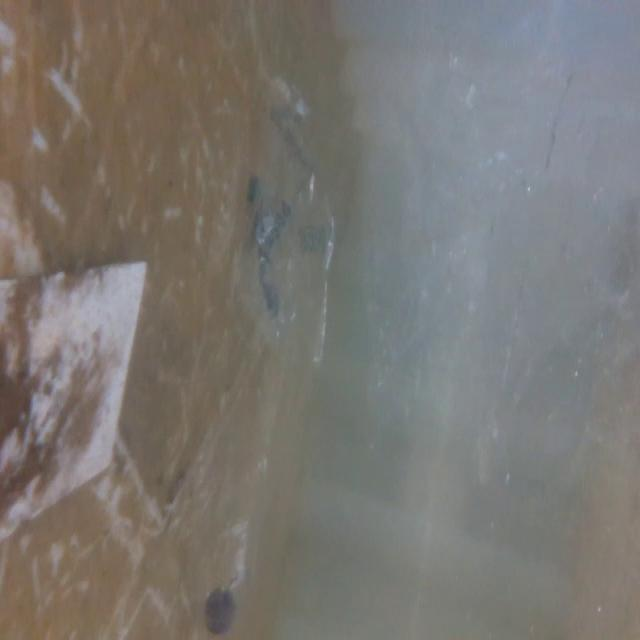metal: (0, 256, 153, 535)
plastic bags: (373, 0, 622, 560), (235, 64, 354, 390)
plastic bottle: (186, 419, 278, 625)
